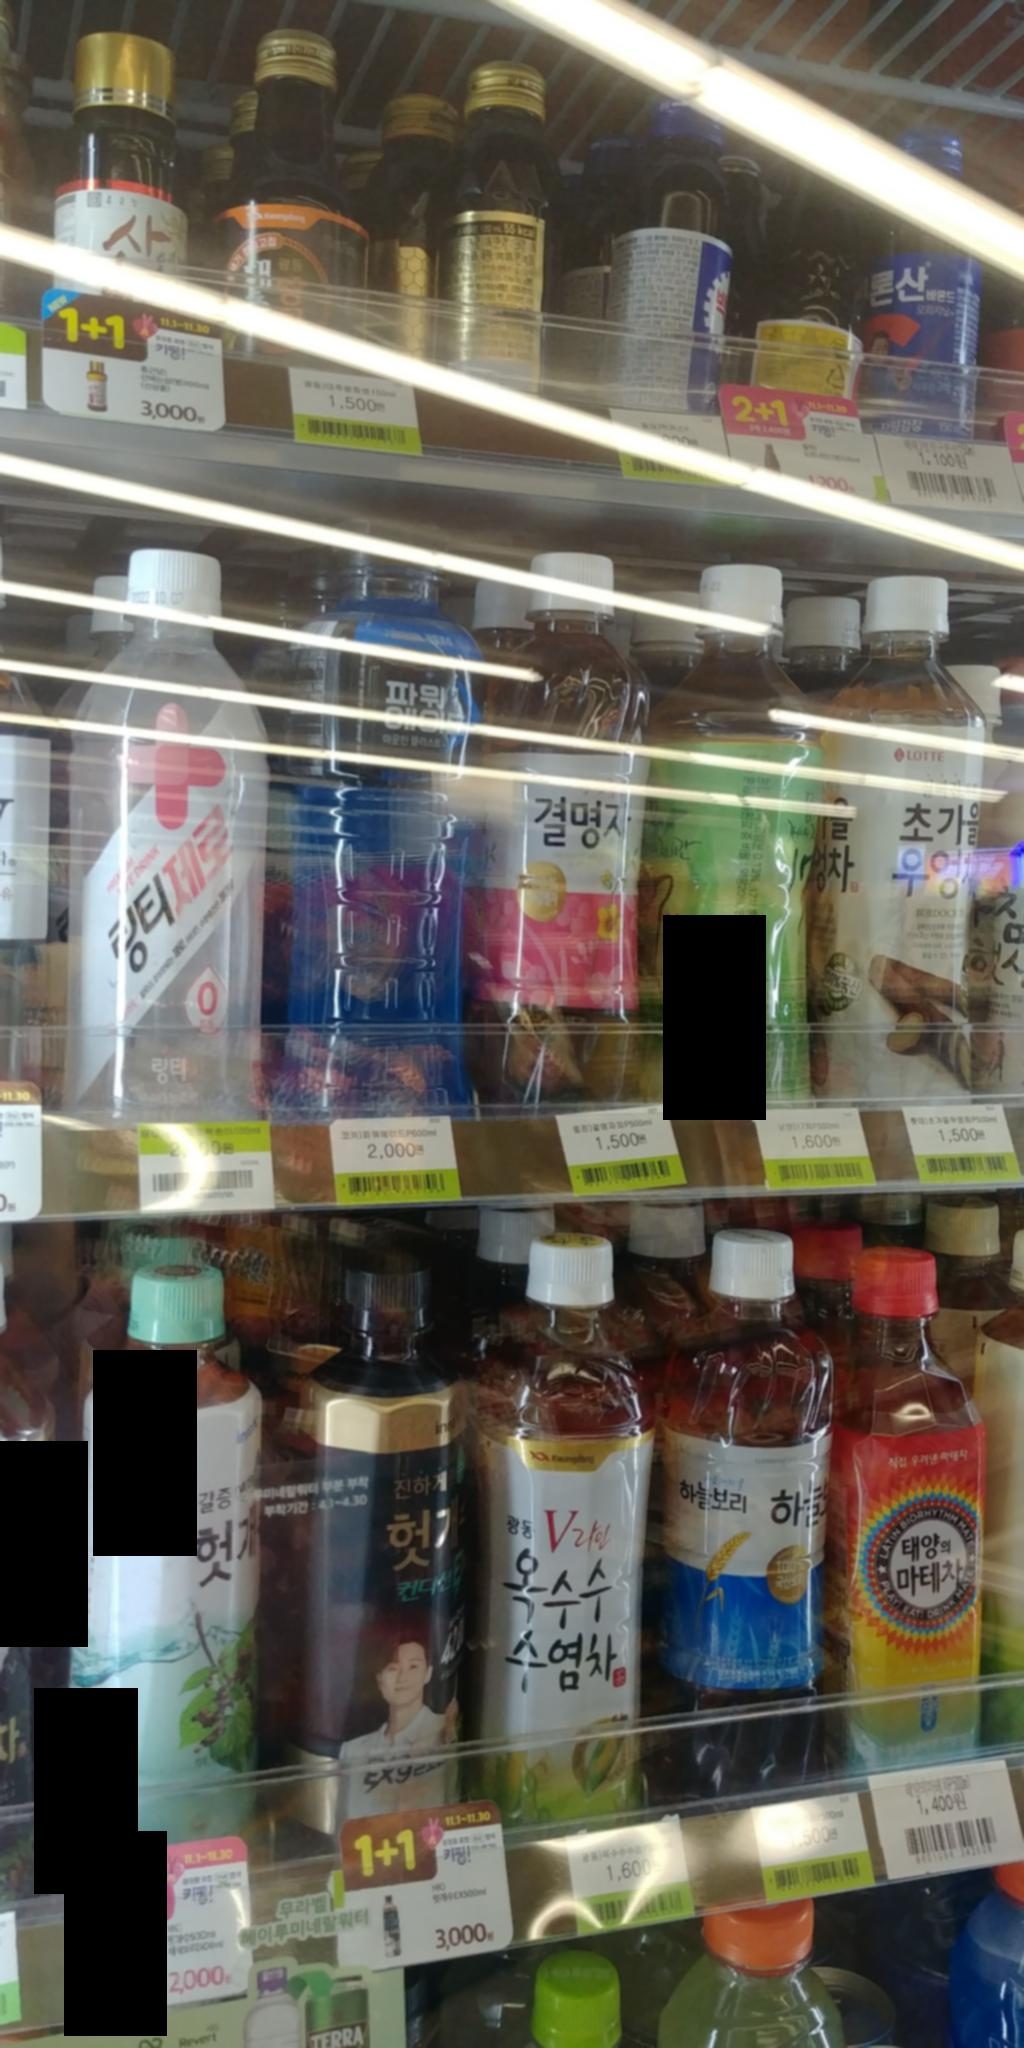haneulbori: (648, 1233, 836, 1804)
oksususuyeomcha: (458, 1228, 670, 1829)
powerade_mountainblast: (282, 515, 482, 1145)
